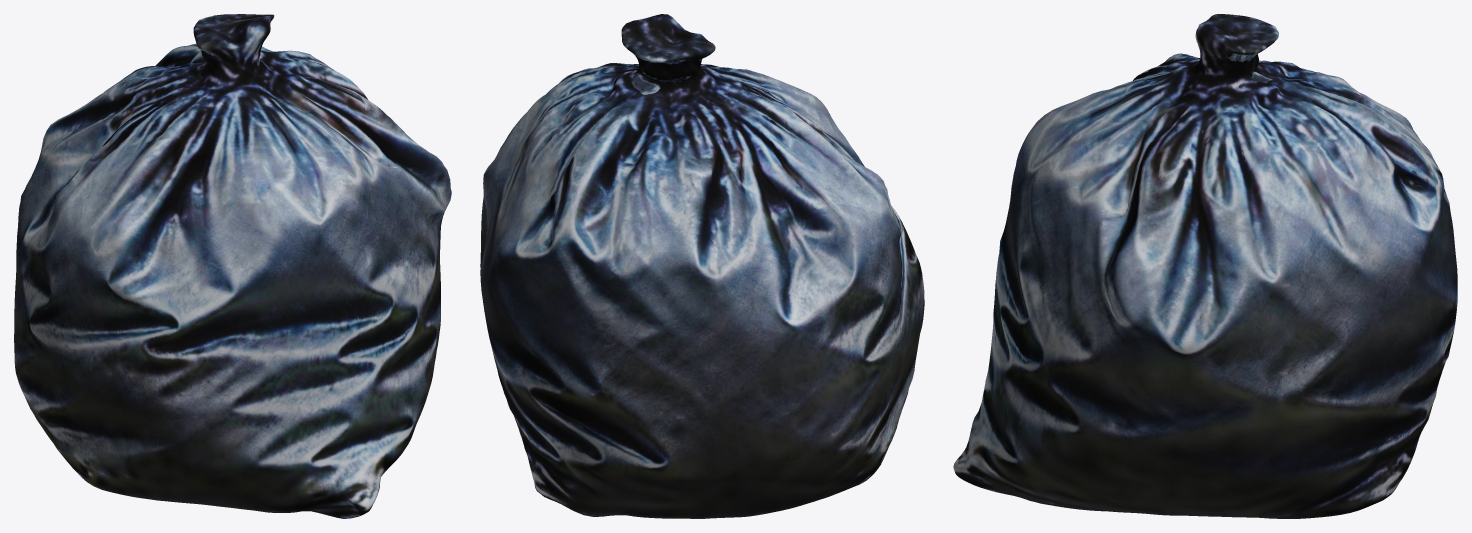
3 views of the same model, side by side, from view 1: azimuth 30°, elevation 25°; view 2: azimuth 150°, elevation 25°; view 3: azimuth 270°, elevation 25° (orthographic). The views are drawn at different scales.
Parts seen in each view (by area): view 1: garbage_bag; view 2: garbage_bag; view 3: garbage_bag.
Boxes of the visible parts, bbox=[...] form: garbage_bag: bbox=[14, 14, 451, 518]; garbage_bag: bbox=[480, 14, 924, 518]; garbage_bag: bbox=[953, 14, 1457, 518].
Size of the model in its own units: 0.914 by 0.9967 by 0.9521.
1 material, 1 textured.
